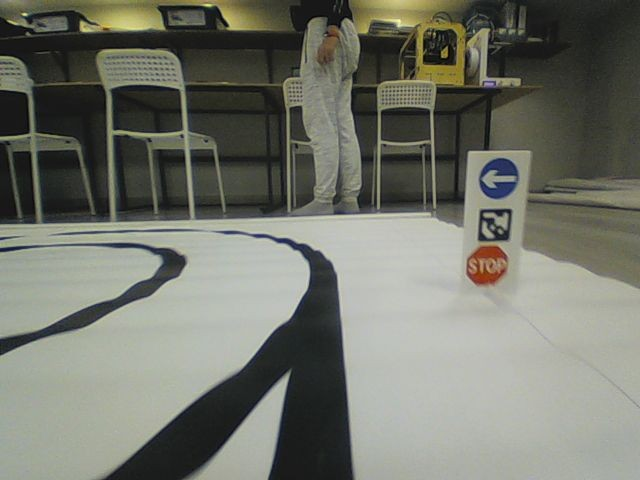Stop: (465, 244, 510, 286)
